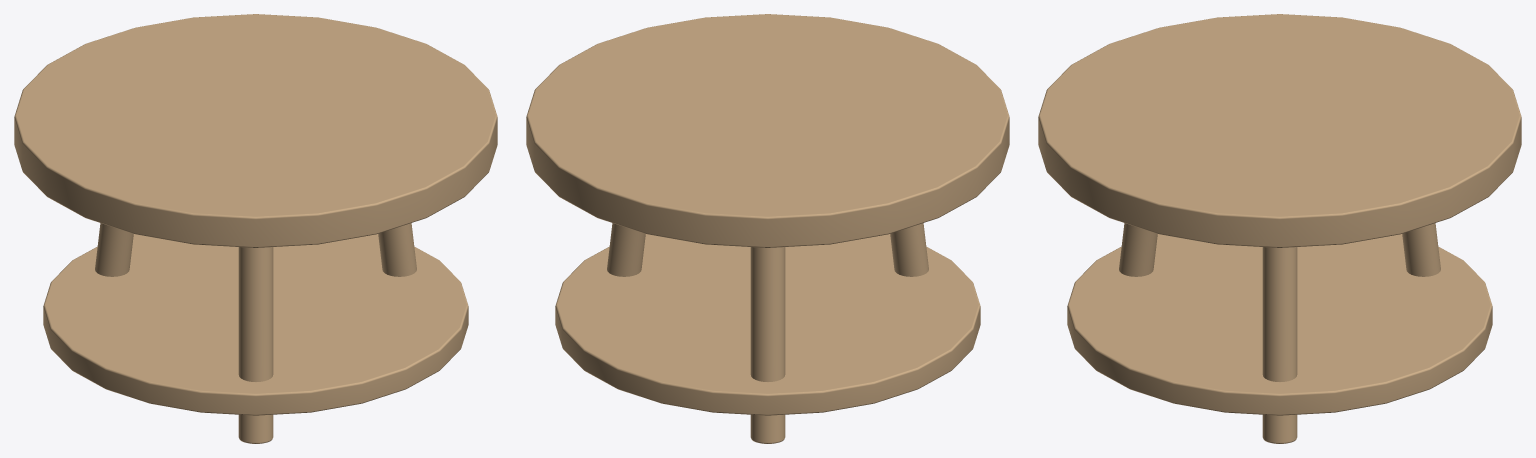
File: ikea_borgeby_coffee_70449402.glb
3 views of the same model, side by side, from view 1: azimuth 30°, elevation 25°; view 2: azimuth 150°, elevation 25°; view 3: azimuth 270°, elevation 25° (orthographic).
Visible parts, largest first — view 1: upper tray.001, lower shelf.001, wood leg.005, wood leg.003, wood leg.004; view 2: upper tray.001, lower shelf.001, wood leg.004, wood leg.003, wood leg.005; view 3: upper tray.001, lower shelf.001, wood leg.003, wood leg.004, wood leg.005.
Boxes of the visible parts, bbox=[...] form: upper tray.001: bbox=[14, 14, 497, 247]; lower shelf.001: bbox=[43, 234, 468, 415]; wood leg.005: bbox=[238, 247, 273, 443]; wood leg.003: bbox=[378, 223, 416, 276]; wood leg.004: bbox=[95, 223, 133, 276]; upper tray.001: bbox=[526, 14, 1009, 247]; lower shelf.001: bbox=[555, 234, 980, 415]; wood leg.004: bbox=[750, 247, 785, 443]; wood leg.003: bbox=[607, 223, 645, 276]; wood leg.005: bbox=[890, 223, 928, 276]; upper tray.001: bbox=[1038, 14, 1521, 247]; lower shelf.001: bbox=[1067, 234, 1492, 415]; wood leg.003: bbox=[1262, 247, 1297, 443]; wood leg.004: bbox=[1402, 223, 1440, 276]; wood leg.005: bbox=[1119, 223, 1157, 276].
Size of the model in its own units: 0.7 by 0.4026 by 0.7.
